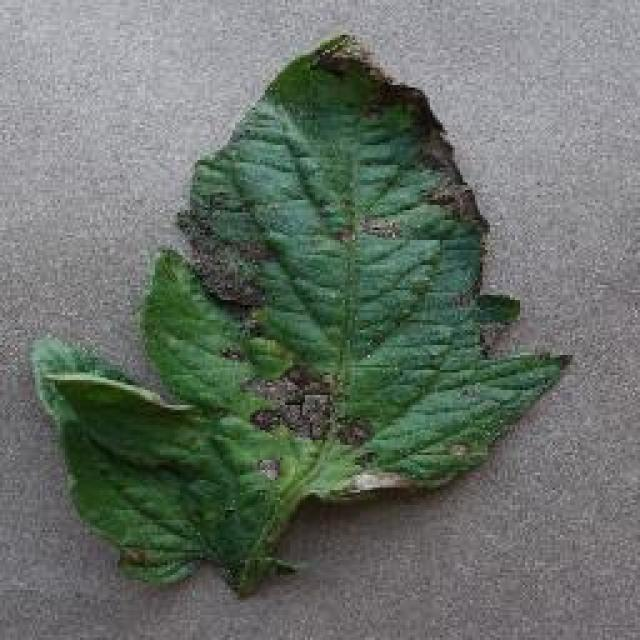Tomato Early blight leaf: (32, 38, 574, 585)
